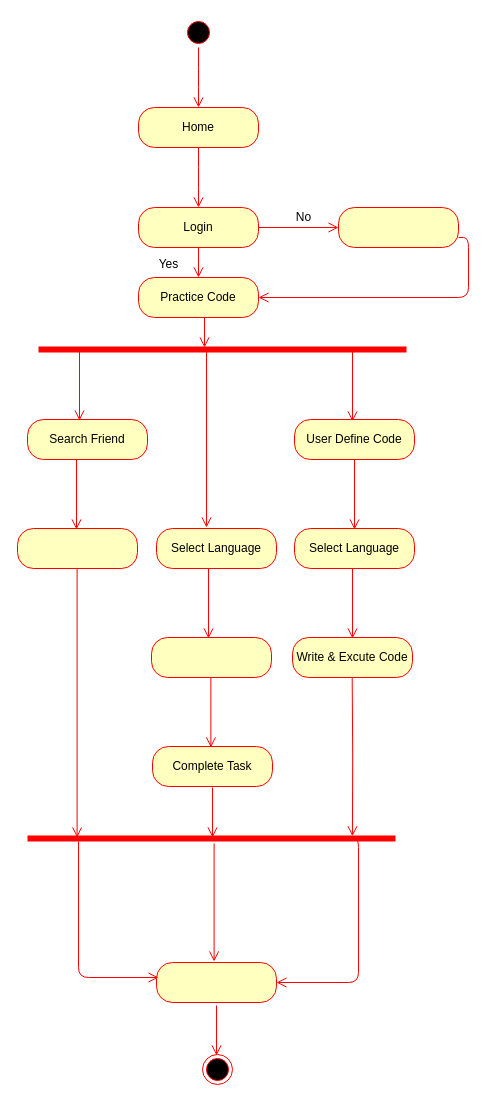
This 496x1102 diagram has some shape labels left out. Each missing label, with the centre of its shape:
"Logout" belongs at point (216, 982).
"Perform Task" belongs at point (211, 657).
"Sign Up" belongs at point (398, 227).
"View Friend Task" belongs at point (77, 548).
